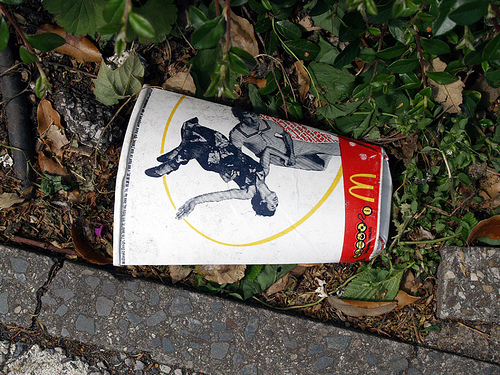litter: (111, 84, 392, 268)
